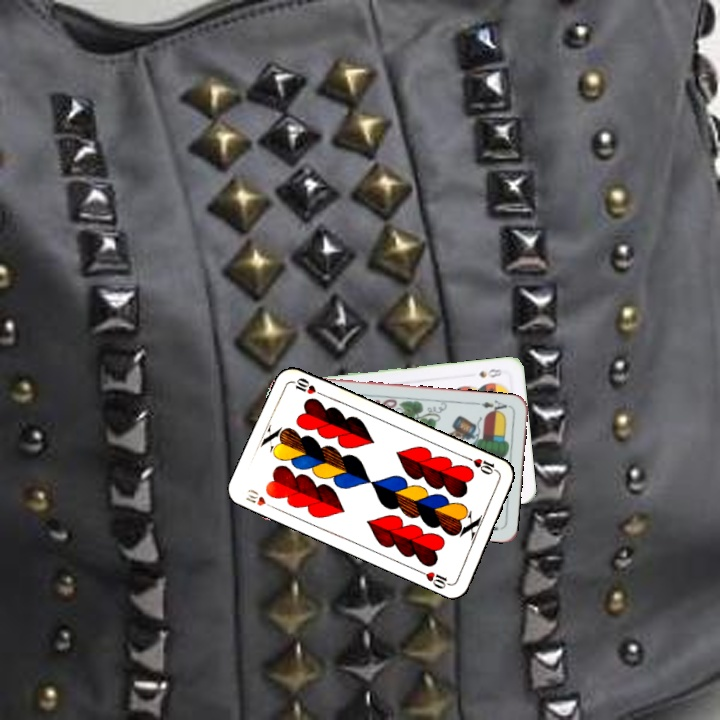EA: (472, 396, 512, 416)
H10: (463, 453, 501, 477), (241, 491, 279, 512)
S8: (475, 365, 504, 380)
